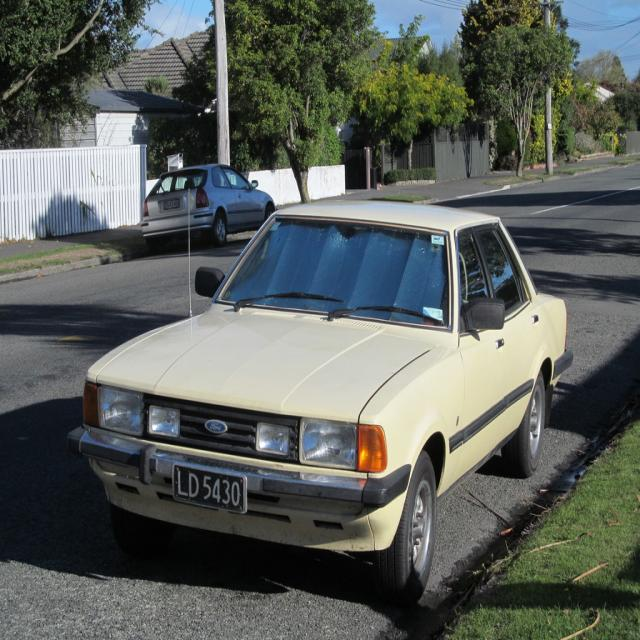car: (66, 187, 573, 604)
